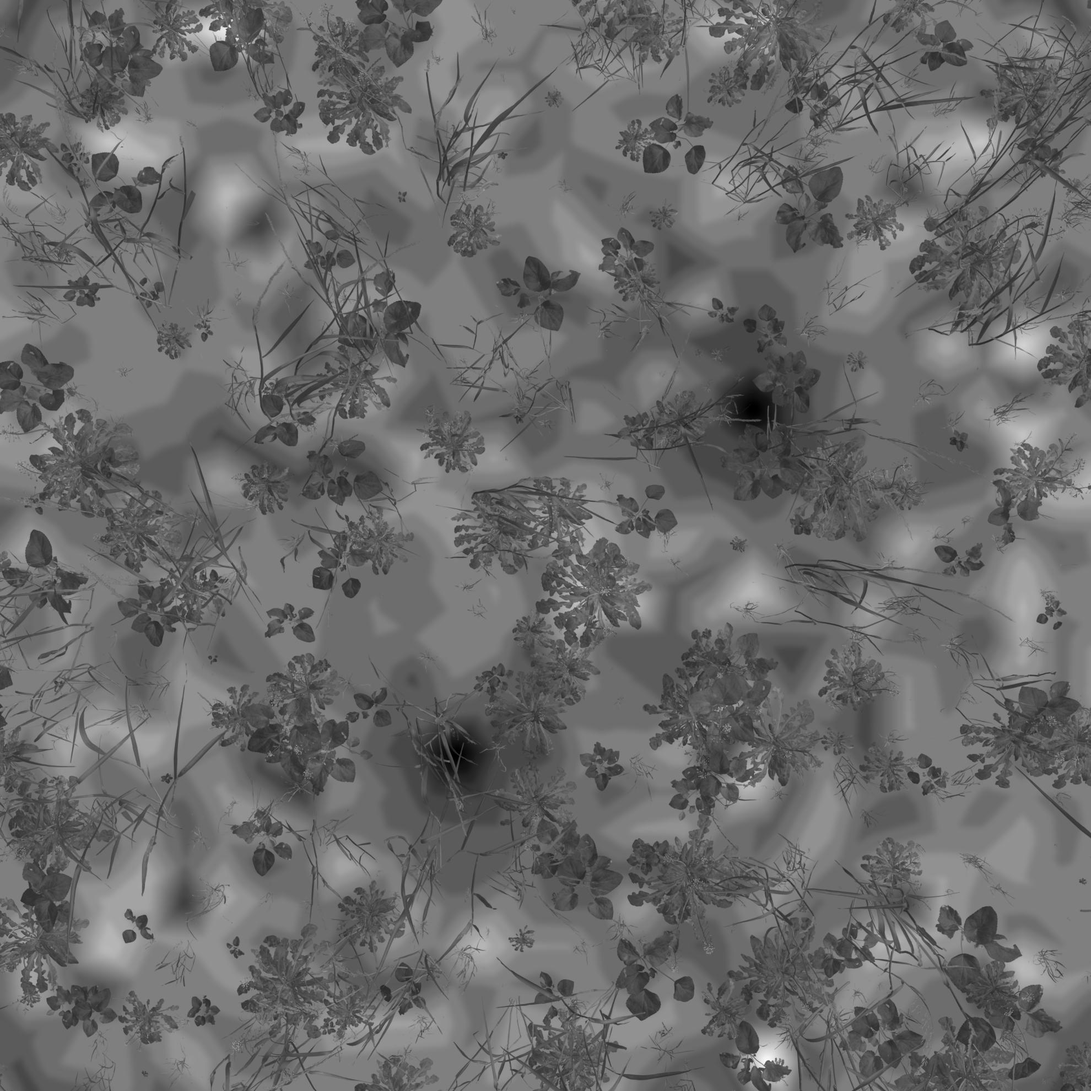landmine: (391, 693, 523, 823), (693, 347, 813, 465)
